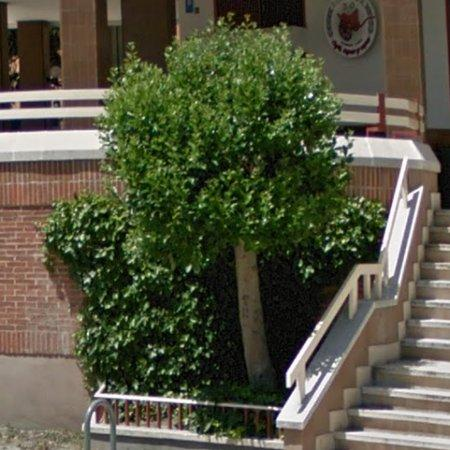stairs: (335, 210, 450, 450)
